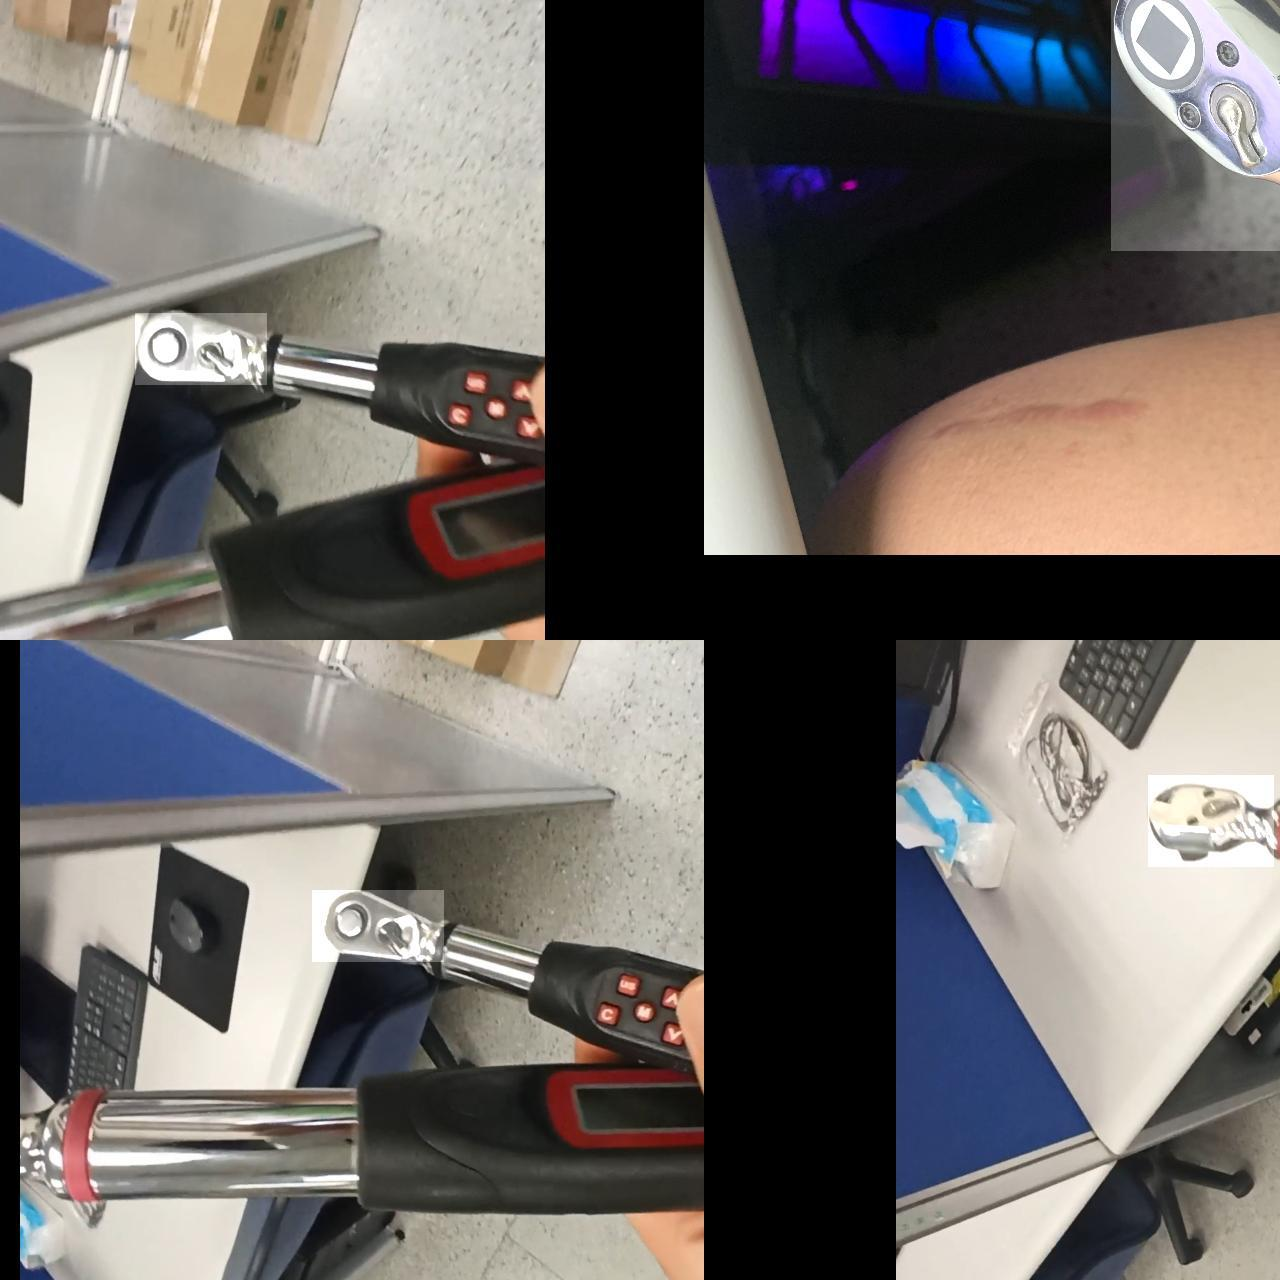Tool: (1110, 0, 1280, 251), (1148, 775, 1273, 867), (311, 890, 443, 962), (134, 313, 266, 384)
